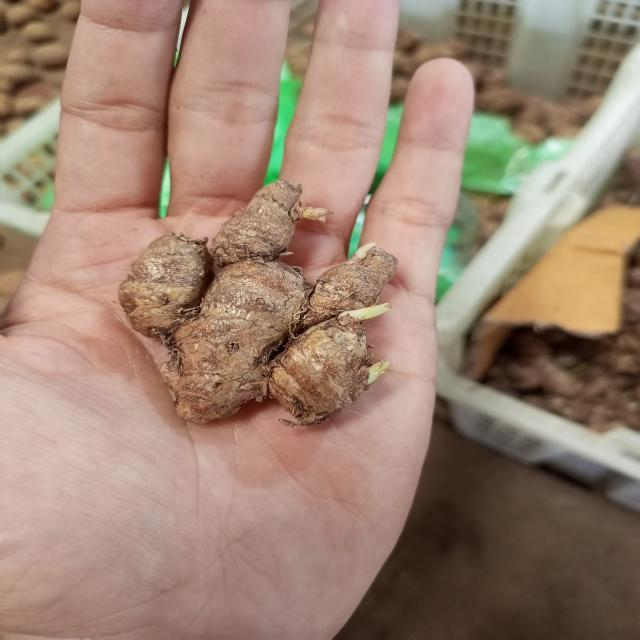ginger: (141, 182, 373, 408)
